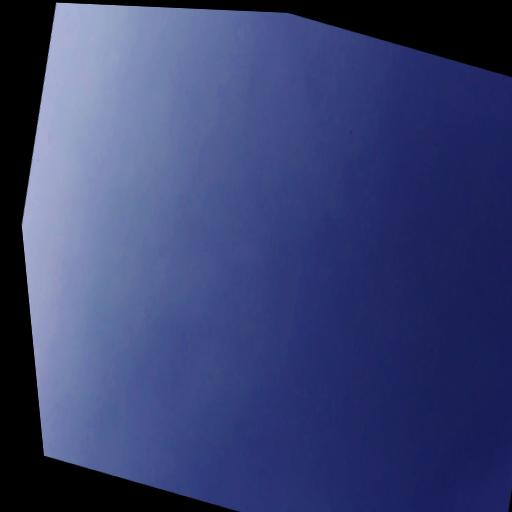drones: (349, 130, 353, 136)
